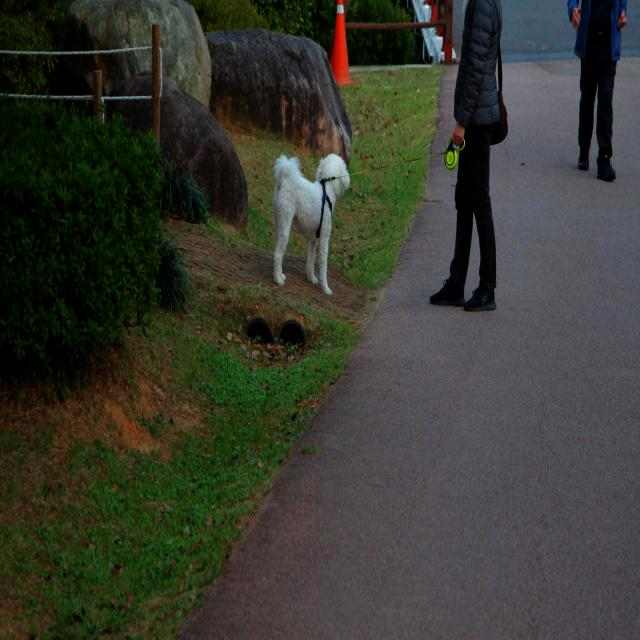Leashed_Dog: (272, 122, 470, 296)
